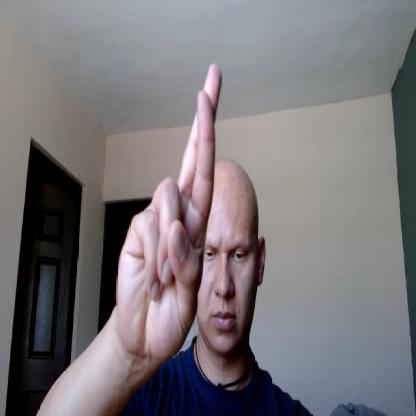R: (119, 63, 222, 355)
